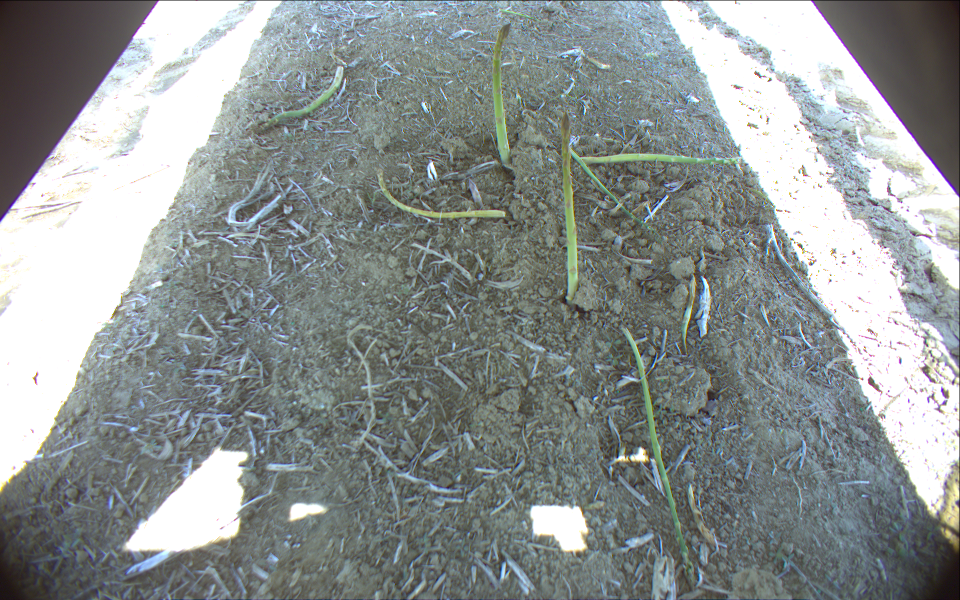aspa: (559, 111, 583, 303), (487, 21, 516, 167)
